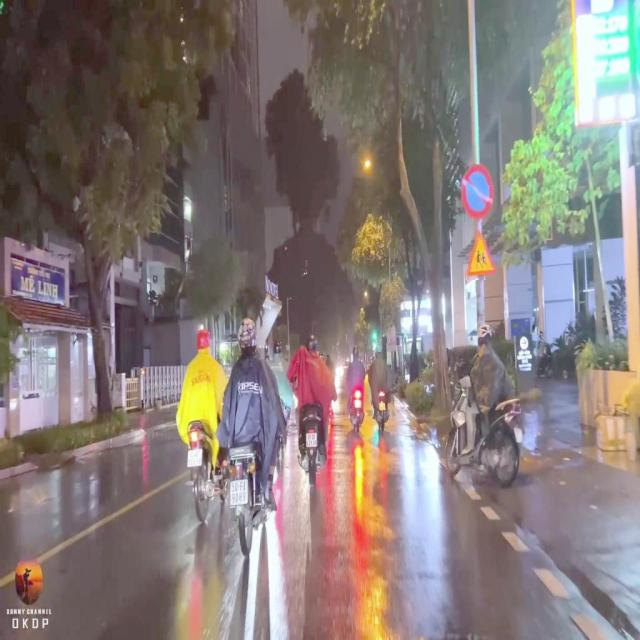cam_do_xe: (459, 163, 494, 223)
chu_y_tre_em: (463, 226, 497, 280)
